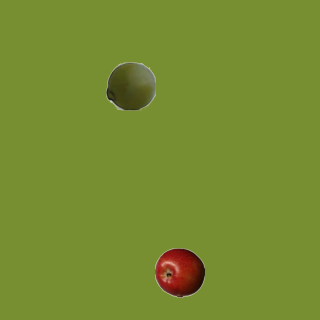Apple Braeburn: (154, 247, 204, 297)
Grape White 4: (105, 60, 155, 110)
